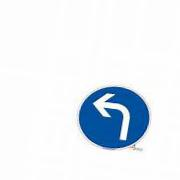left: (78, 86, 150, 150)
